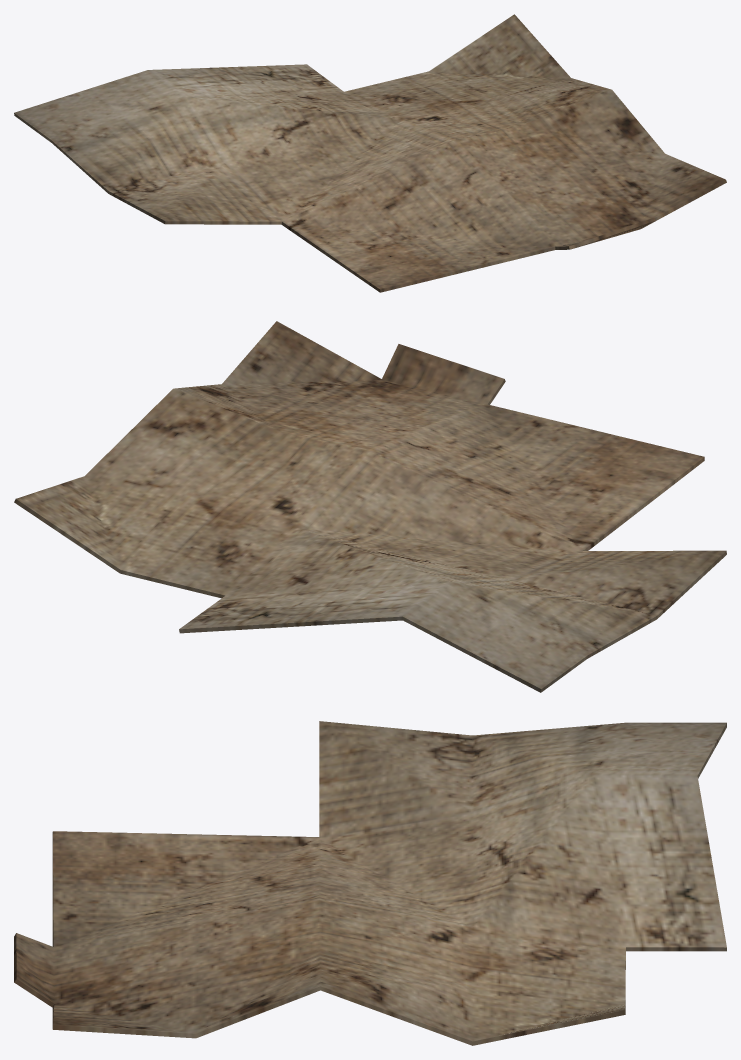
File: Garbage1_14.fbx
The picture shows the model from 3 angles, top to bottom: view 1: azimuth 30°, elevation 25°; view 2: azimuth 150°, elevation 25°; view 3: azimuth 270°, elevation 25°; orthographic projection. The views are drawn at different scales.
Parts seen in each view (by area): view 1: polySurface14; view 2: polySurface14; view 3: polySurface14.
Part boxes in pixels (x1,y1,x2,y2): polySurface14: (14,14,726,292); polySurface14: (14,321,726,692); polySurface14: (14,721,726,1045).
Bounding box in the file's own units: 3.23 × 0.3606 × 3.18.
